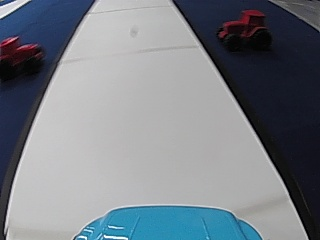tractor: (215, 8, 270, 52), (0, 33, 43, 80)
